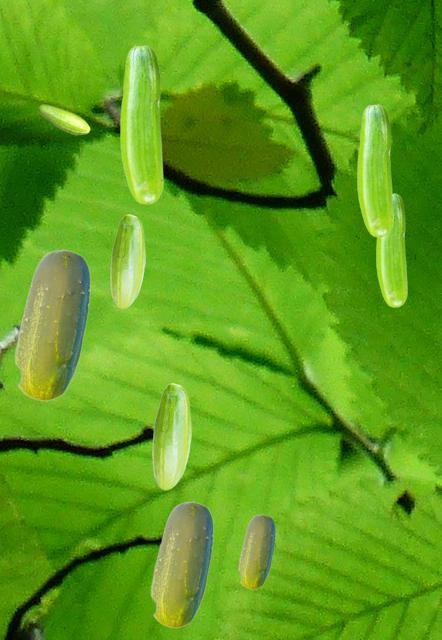cucumber: (14, 249, 89, 400), (150, 501, 212, 627), (120, 45, 162, 203), (357, 104, 392, 236), (152, 383, 190, 489), (376, 193, 406, 306), (110, 214, 144, 308), (238, 514, 274, 588), (38, 104, 89, 134)
